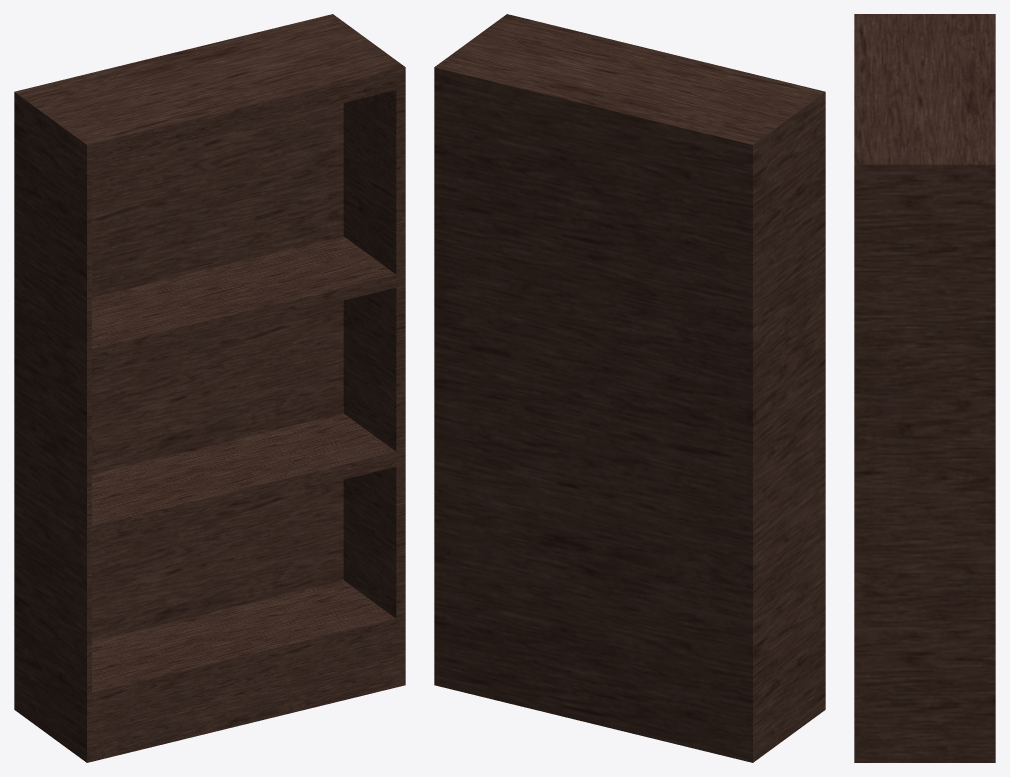
The model's file is BookCase.fbx.
The picture shows the model from 3 angles, left to right: view 1: azimuth 30°, elevation 25°; view 2: azimuth 150°, elevation 25°; view 3: azimuth 270°, elevation 25°; orthographic projection. The views are drawn at different scales.
Visible parts, largest first — view 1: BookShelfOBJ; view 2: BookShelfOBJ; view 3: BookShelfOBJ.
Part boxes in pixels (box(x1,y1,x2,y2)): BookShelfOBJ: box(14, 14, 405, 762); BookShelfOBJ: box(434, 14, 825, 762); BookShelfOBJ: box(854, 14, 995, 762).
Size of the model in its own units: 115 by 213 by 45.45.
Materials: 1 (1 with a texture image).
